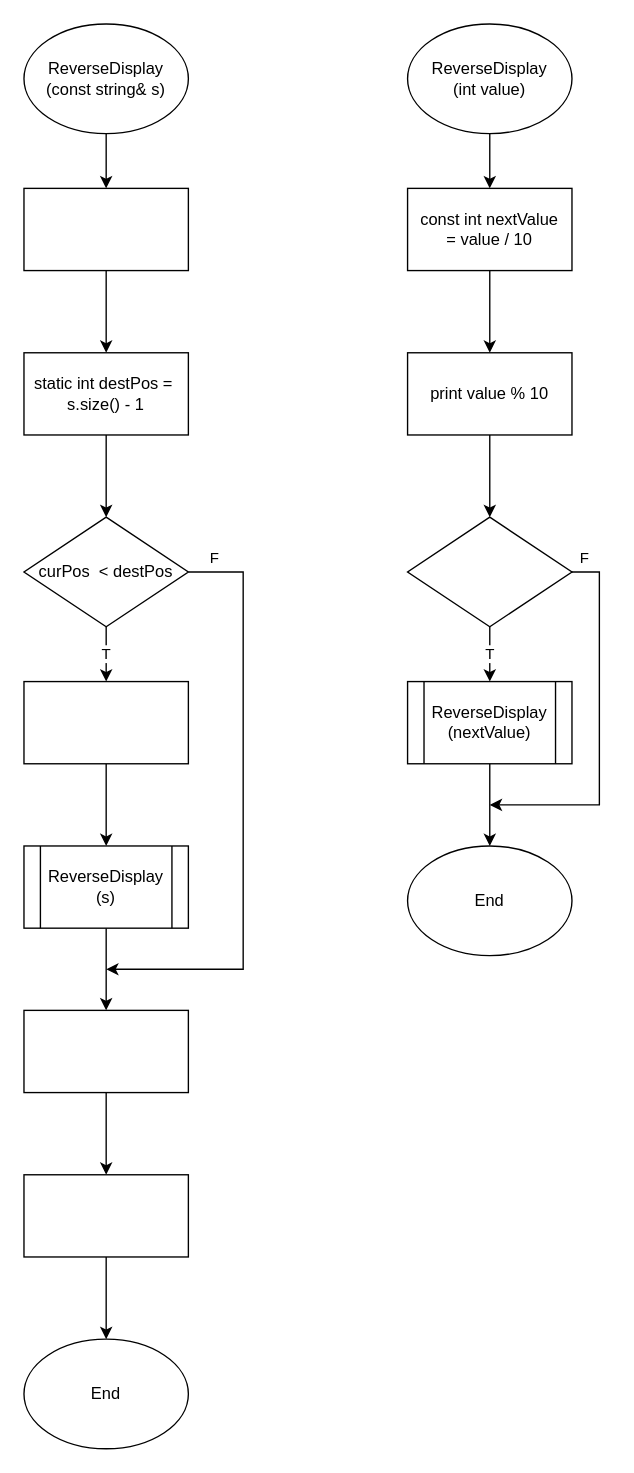
The diagram is 634 pixels wide and 1473 high, and some of its shapes have lost their labels. The box of each missing label's shape, as (x1, y1, x2, y2) in pixels:
curPos++: (23, 680, 188, 764)
destPos--: (23, 1173, 188, 1257)
nextValue > 0: (406, 516, 572, 627)
print s[curPos--]: (23, 1009, 188, 1093)
static int curPos = 0: (23, 187, 188, 271)
